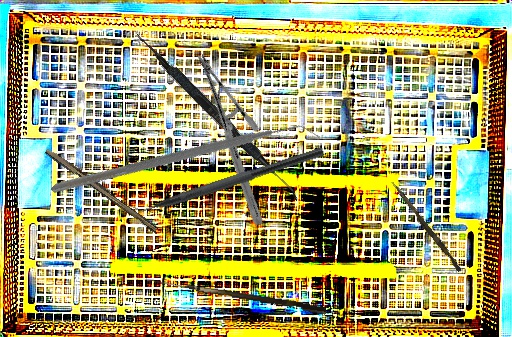Chopper: (50, 27, 321, 299), (119, 133, 326, 224)
Hook Surgical: (144, 278, 327, 315)
Needle Holder: (140, 52, 320, 227)
Pusher: (388, 180, 464, 273)
Scalpel Handle: (43, 145, 161, 234)
Spatula Surgical: (130, 31, 306, 202)
